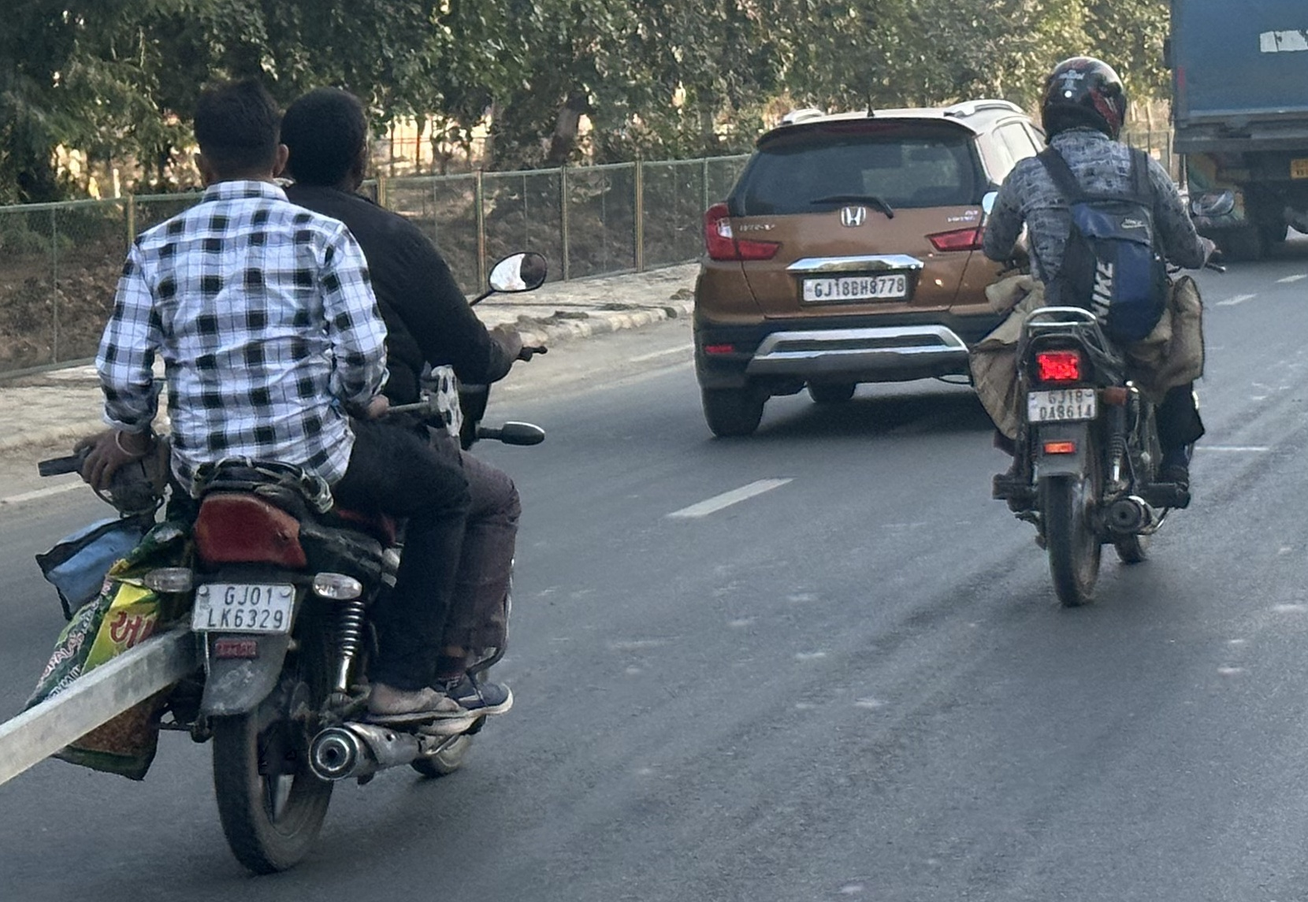BikeWithRider: (36, 78, 551, 874), (959, 53, 1232, 603)
Helmet: (1035, 54, 1128, 145)
NoHelmet: (188, 83, 299, 191), (283, 84, 376, 205)
